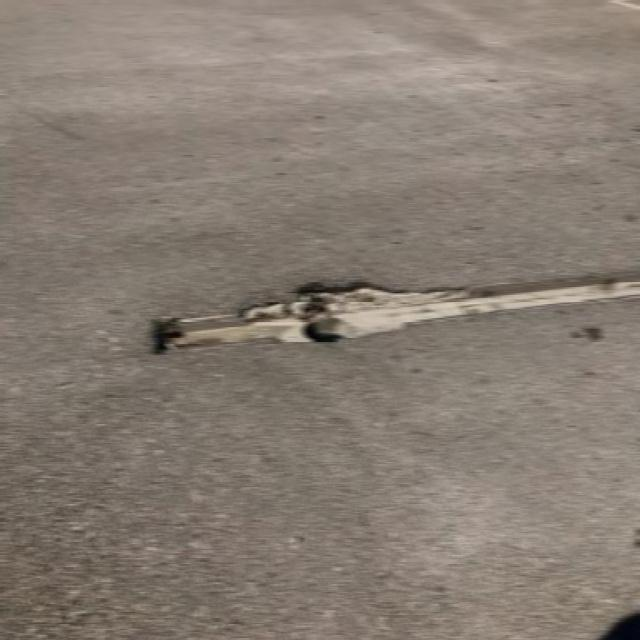Pothole: (137, 278, 472, 357)
